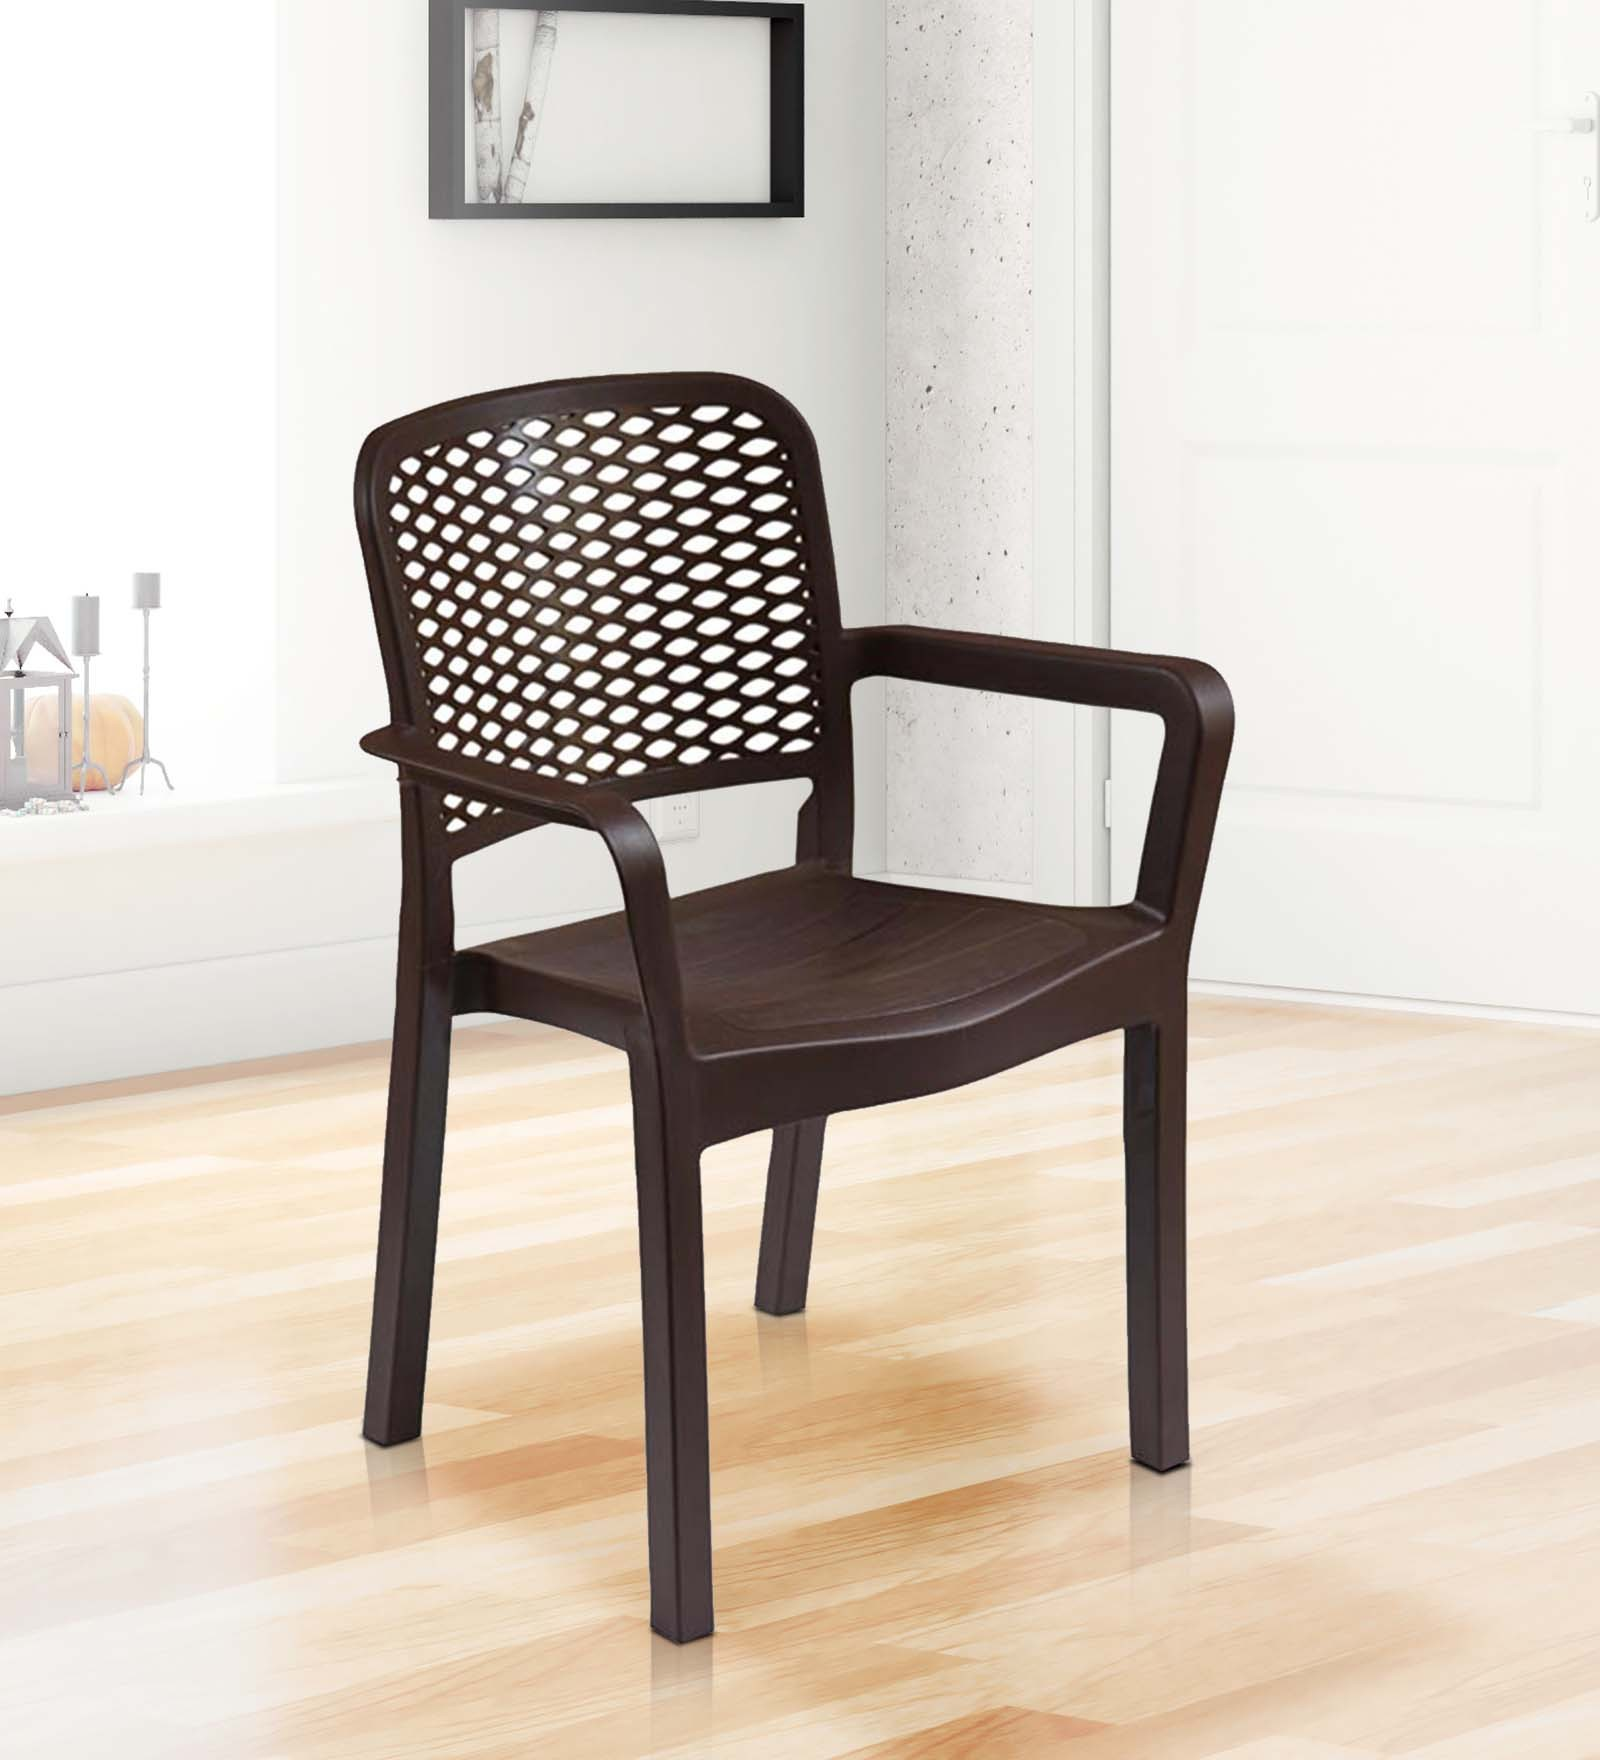Luxury Plastic Chair in Brown Colour by Italica Furniture: (343, 366, 1241, 1645)
